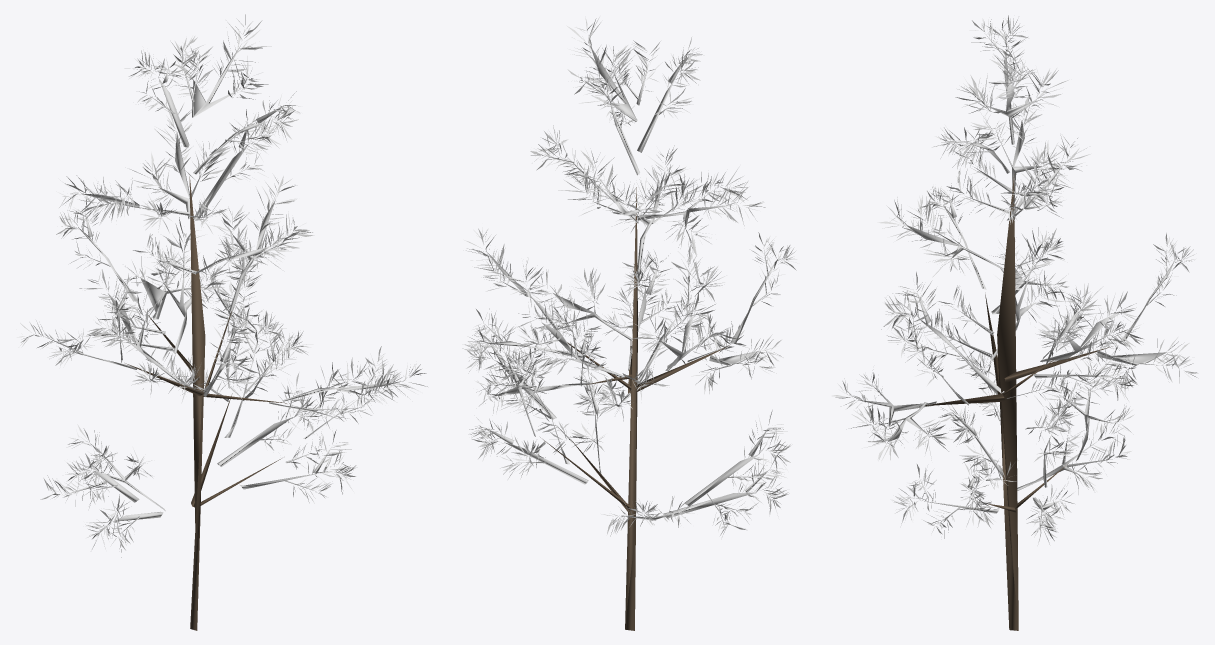
File: Pine_LOD1.fbx
3 renders of one model, left to right at view 1: azimuth 30°, elevation 25°; view 2: azimuth 150°, elevation 25°; view 3: azimuth 270°, elevation 25°, orthographic.
Parts seen in each view (by area): view 1: Pine_LOD1; view 2: Pine_LOD1; view 3: Pine_LOD1.
Part boxes in pixels (left/top/right/bottom): Pine_LOD1: left=17, top=14, right=427, bottom=630; Pine_LOD1: left=462, top=16, right=797, bottom=630; Pine_LOD1: left=832, top=15, right=1198, bottom=630.
Bounding box in the file's own units: 78.56 × 130 × 72.61.
